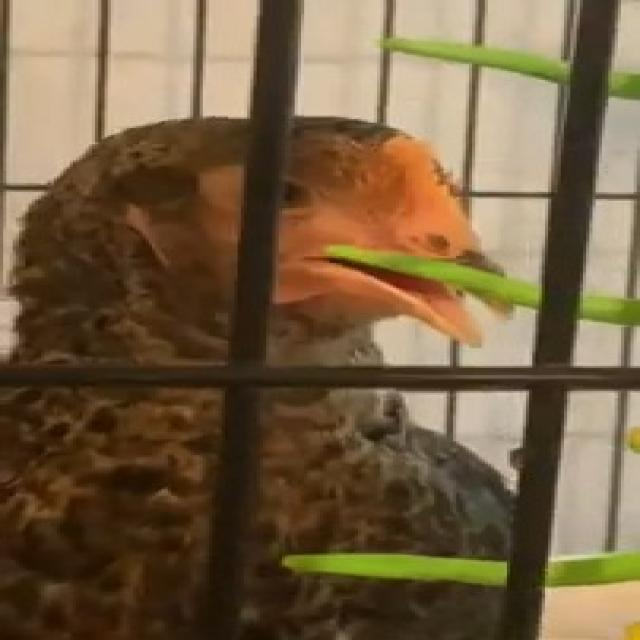Breathing: (3, 110, 564, 640)
